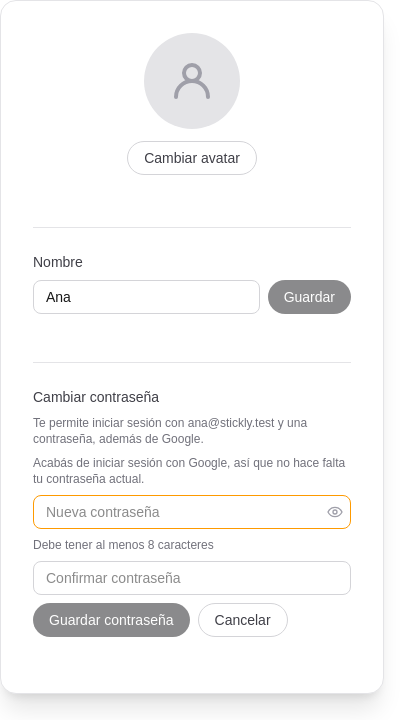
ProfileForm › forgotten password › brings the current password back when the sign in is no longer recent
The width and height of the screenshot is (401, 720).
Type "new-password" into the password field labelled "Nueva contraseña" at (192, 512), box [33, 495, 351, 529]
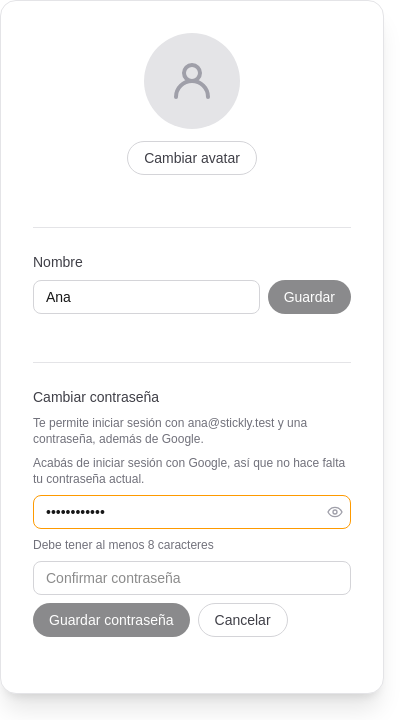
Type "new-password" into the password field labelled "Confirmar contraseña" at (192, 578), box [33, 561, 351, 595]
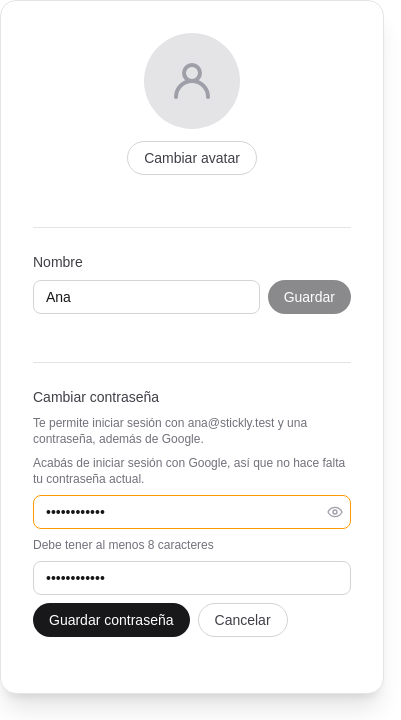
Click the button "Guardar contraseña" at (111, 620), box [33, 603, 190, 637]
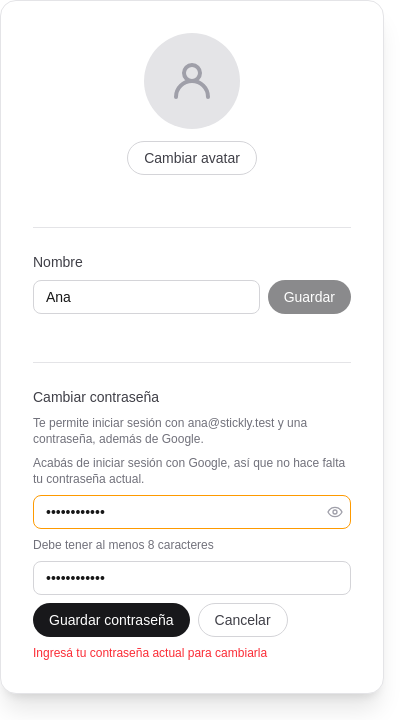
Check: the text "Ingresá tu contraseña actual para cambiarla" is shown, box [33, 646, 267, 660]
